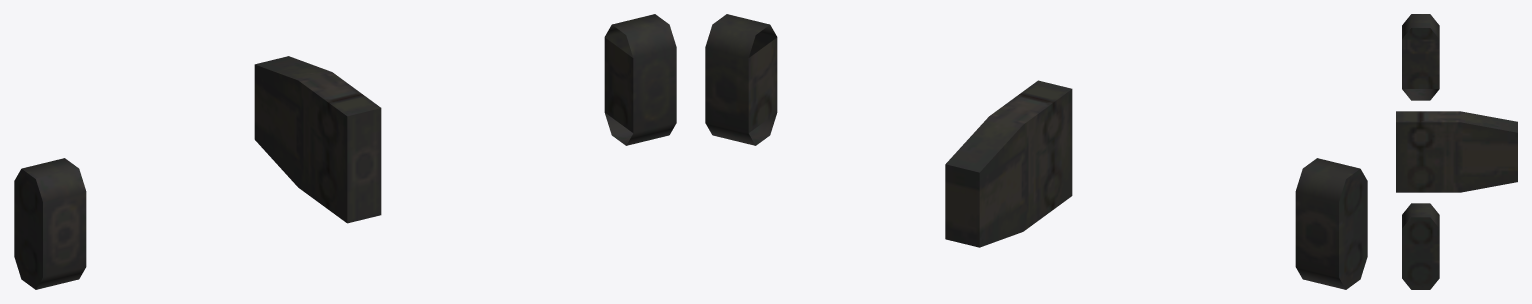
File: segment_02_pair_1.glb
3 renders of one model, left to right at view 1: azimuth 30°, elevation 25°; view 2: azimuth 150°, elevation 25°; view 3: azimuth 270°, elevation 25°, orthographic. The views are drawn at different scales.
Visible parts, largest first — view 1: set_0_group_0; view 2: set_0_group_0; view 3: set_0_group_0.
Part boxes in pixels (box(x1,y1,x2,y2)): set_0_group_0: box(14, 14, 676, 289); set_0_group_0: box(705, 14, 1367, 289); set_0_group_0: box(1396, 14, 1517, 289).
Bounding box in the file's own units: 0.7351 × 0.1228 × 0.1863.
Materials: 1 (1 with a texture image).
